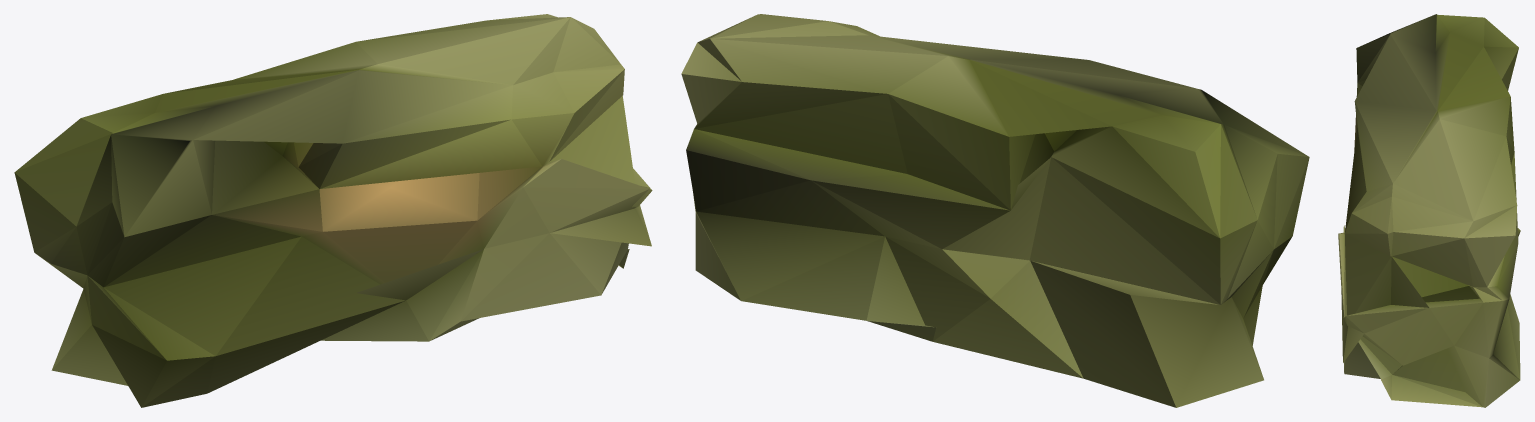
3 renders of one model, left to right at view 1: azimuth 30°, elevation 25°; view 2: azimuth 150°, elevation 25°; view 3: azimuth 270°, elevation 25°, orthographic. The views are drawn at different scales.
Size of the model in its own units: 2 by 0.9 by 0.7.
